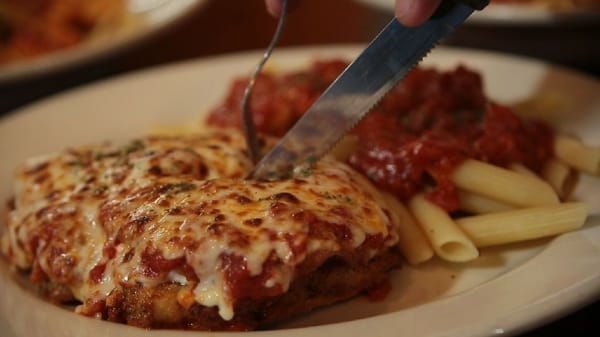sandwich: (245, 2, 490, 184)
